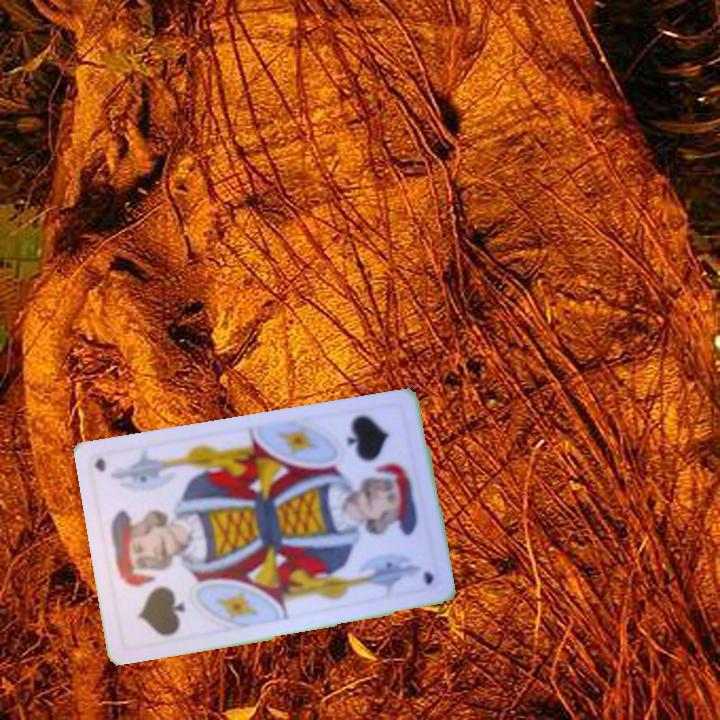s_j.png: (323, 404, 424, 516), (106, 536, 206, 648)
